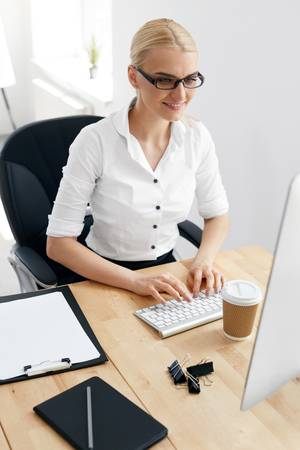F_shirt: (42, 99, 230, 260)
